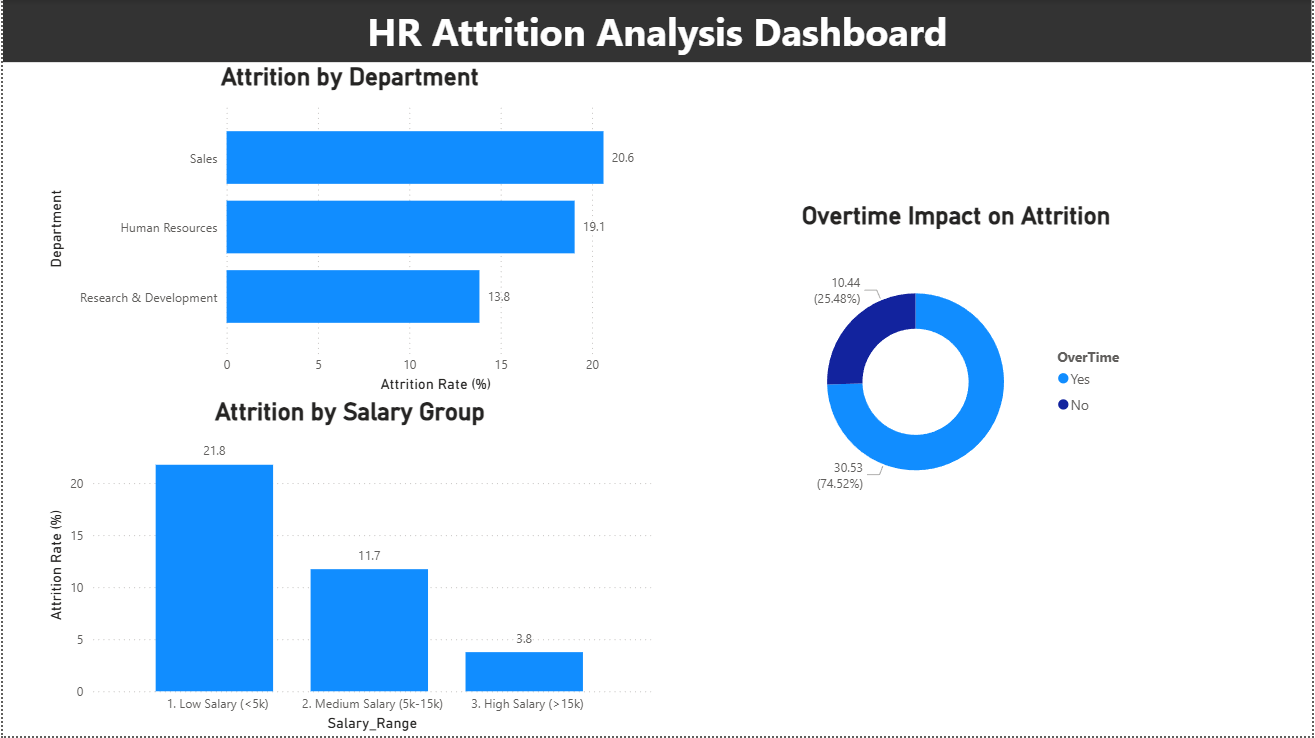

This screenshot's page, from the dashboard's own definition file:
{"tool":"powerbi","page":{"name":"Page 1","canvas":[1280,720],"ordinal":0},"visuals":[{"type":"clusteredBarChart","title":"Attrition by Department","fields":{"Category":["dept_analysis.Department"],"Y":["Sum(dept_analysis.Attrition_Rate)"]},"box":[39.1,61.1,600.4,327.7],"z":0},{"type":"donutChart","title":"Overtime Impact on Attrition","fields":{"Category":["overtime_attrition.OverTime"],"Y":["Sum(overtime_attrition.Attrition_Rate)"]},"box":[749.6,196.9,365.6,326.5],"z":1000},{"type":"clusteredColumnChart","title":"Attrition by Salary Group","fields":{"Category":["sal_attrition_analysis.Salary_Range"],"Y":["Sum(sal_attrition_analysis.Attrition_Rate)"]},"box":[39.1,388.9,600.4,331.4],"z":2000},{"type":"textbox","box":[0,0,1280.3,61.1],"z":2001}]}

Visuals, with their boxes in screenshot pixels (x1, y1, x2, y2), scaled from the page's 1280x720 canvas onto the 1315x738 screenshot:
"Attrition by Department" clusteredBarChart: pyautogui.locateOnScreen(40, 63, 657, 399)
"Overtime Impact on Attrition" donutChart: pyautogui.locateOnScreen(770, 202, 1146, 536)
"Attrition by Salary Group" clusteredColumnChart: pyautogui.locateOnScreen(40, 399, 657, 737)
textbox: pyautogui.locateOnScreen(0, 0, 1314, 63)
